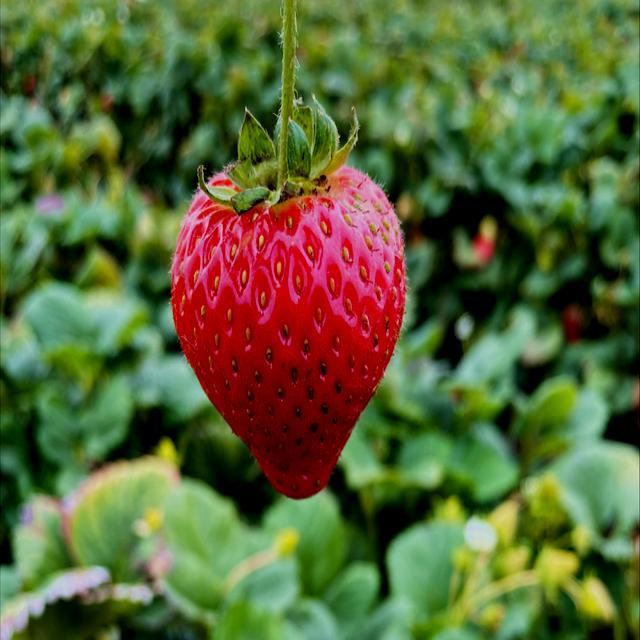strawberry: (171, 0, 406, 498)
